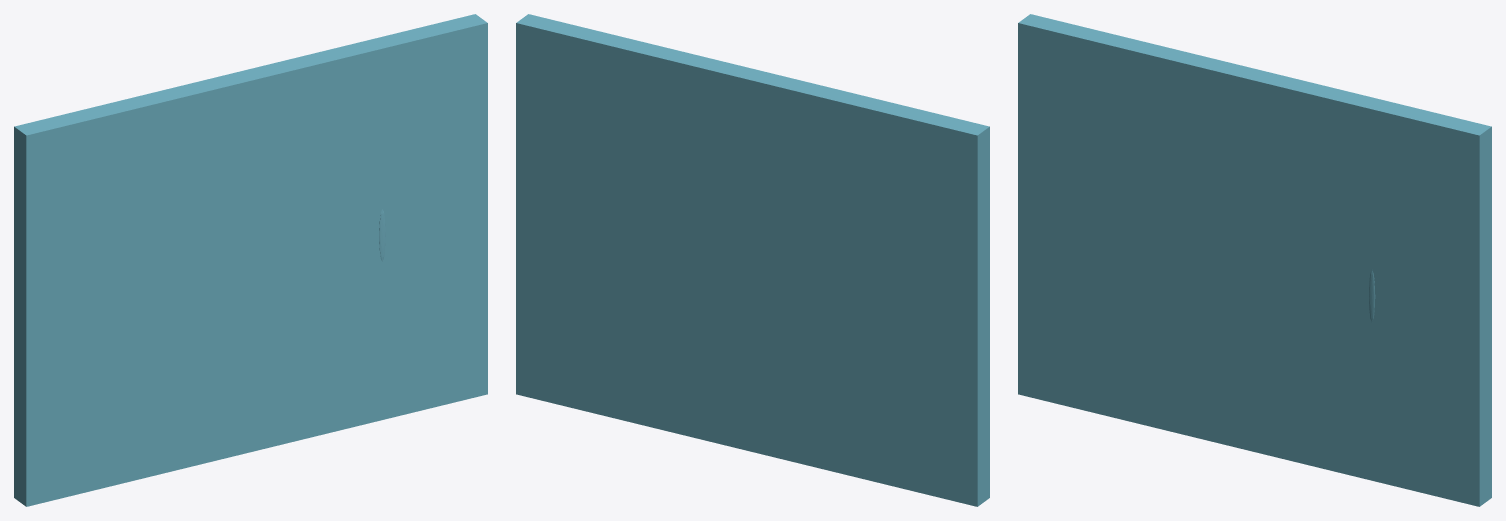
The model's file is 31_NenNuoc.glb.
3 views of the same model, side by side, from view 1: azimuth 30°, elevation 25°; view 2: azimuth 150°, elevation 25°; view 3: azimuth 330°, elevation 25° (orthographic).
Parts seen in each view (by area): view 1: water; view 2: water; view 3: water.
Boxes of the visible parts, x1=… form: water: x1=14, y1=14, x2=487, y2=506; water: x1=516, y1=14, x2=989, y2=506; water: x1=1018, y1=14, x2=1491, y2=506.
Bounding box in the file's own units: 2.6 × 2 × 0.1336.
